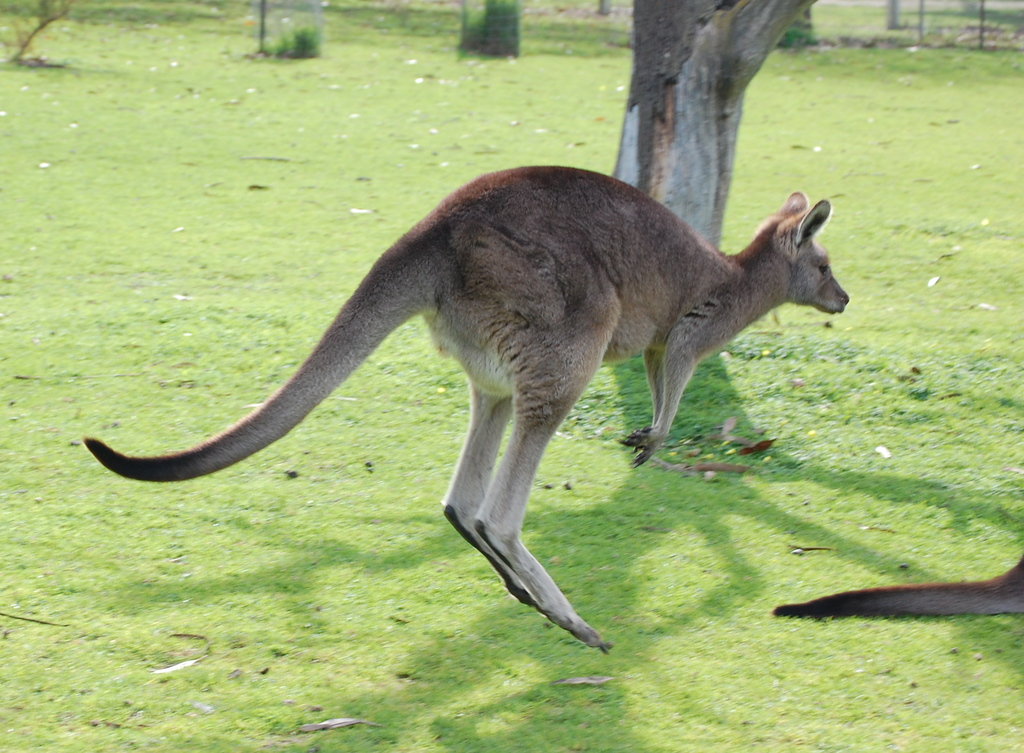kangaroo: (77, 159, 849, 649)
